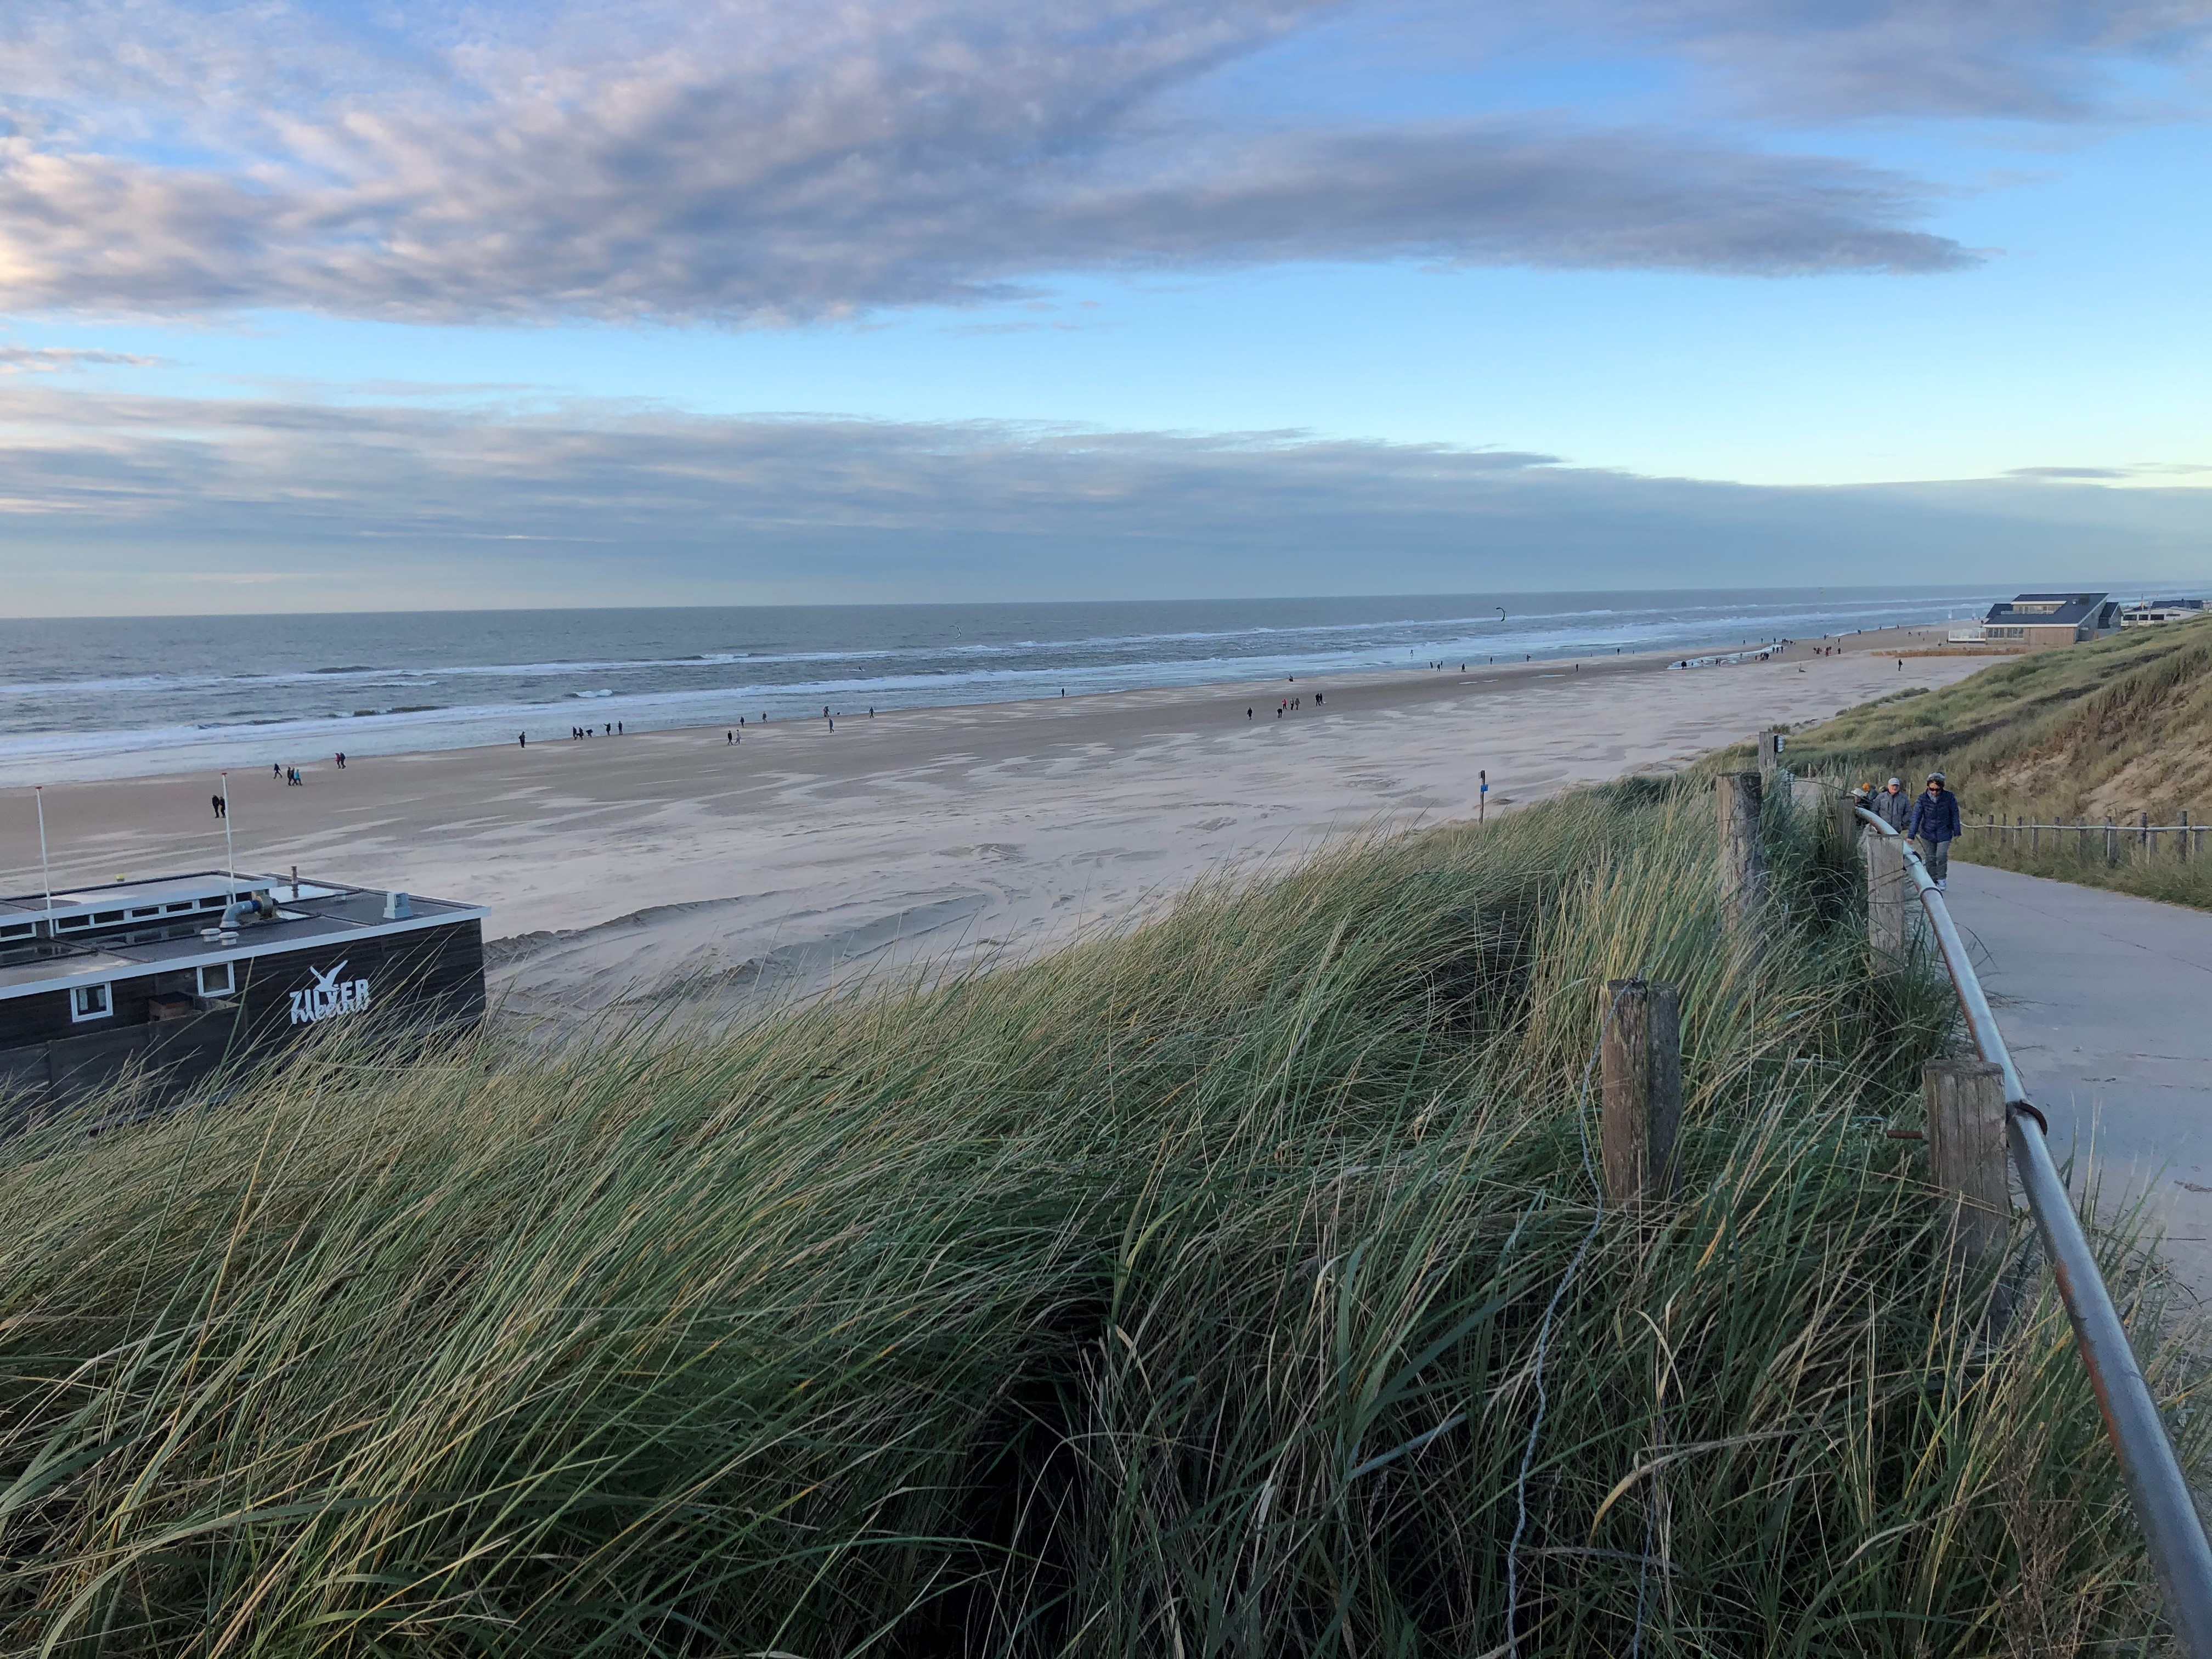strandtent: (1932, 572, 2127, 655)
